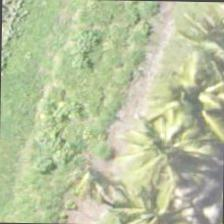Kelapa_Sawit: (118, 103, 210, 195), (170, 47, 223, 139)
